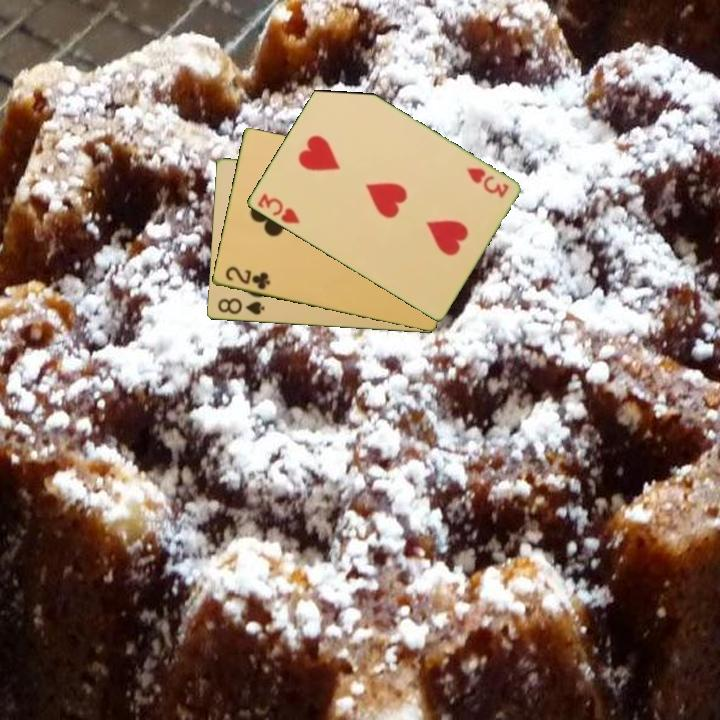2c: (221, 263, 273, 293)
3h: (253, 190, 302, 227), (462, 164, 511, 201)
8s: (214, 295, 267, 318)
